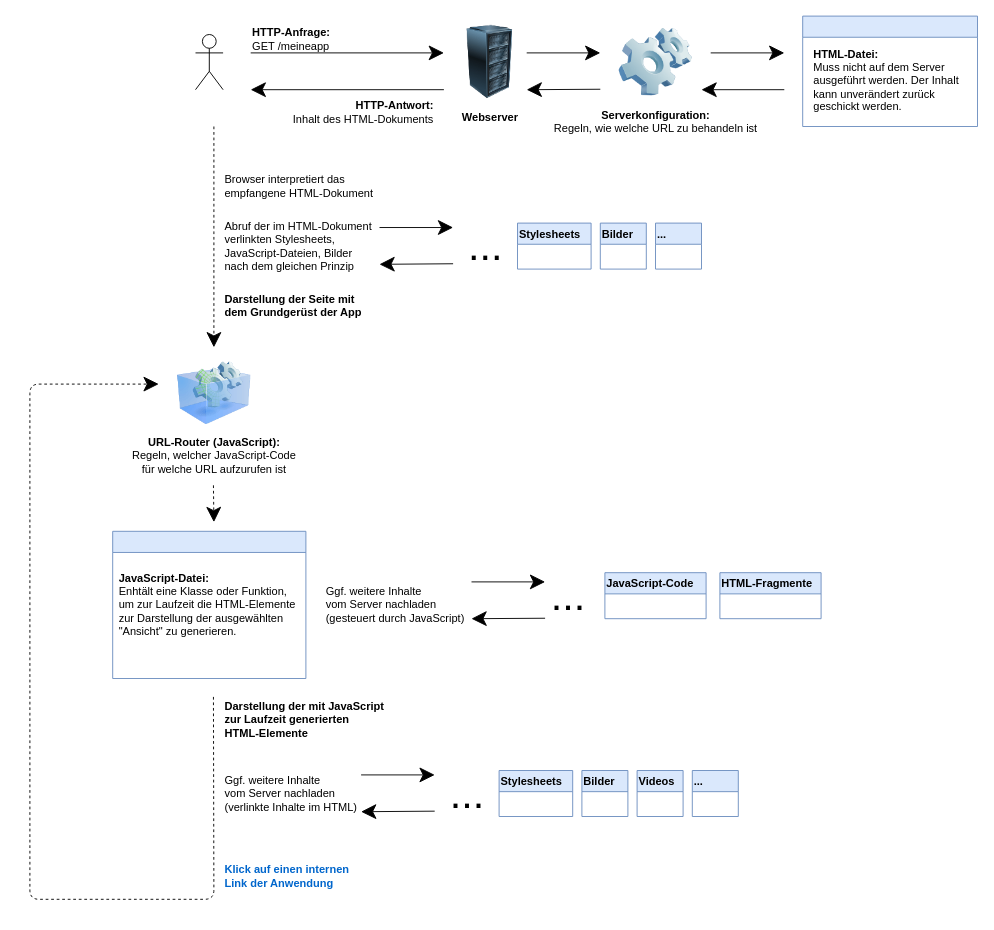
This 994x930 diagram has some shape labels left out. The box of each missing label's shape, as (x1, y1, x2, y2) in pixels:
/srv/www/meineapp/index.html: (802, 15, 978, 126)
page-start/page-start.js: (112, 530, 306, 678)
Webbrowser: (195, 34, 223, 90)
